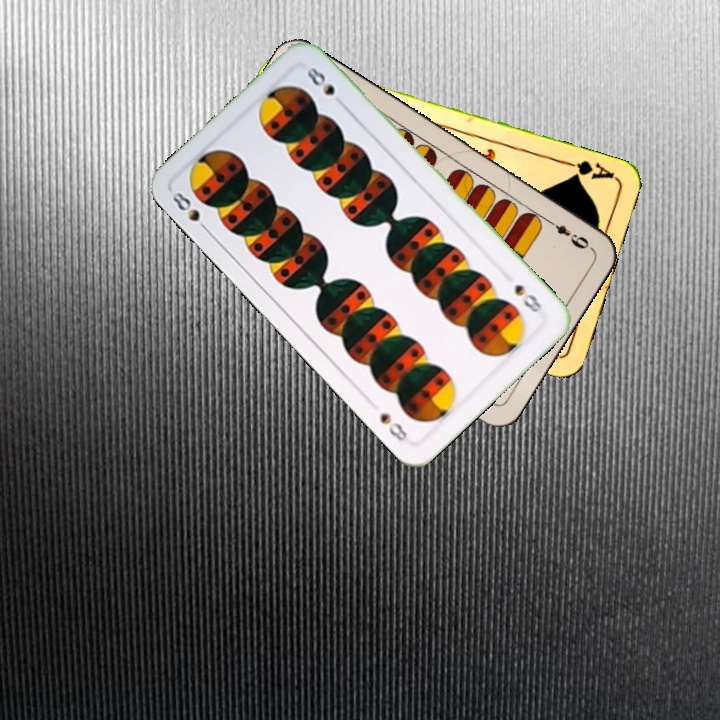E9: (541, 214, 594, 252)
GA: (559, 156, 618, 183)
S8: (165, 187, 213, 236), (510, 280, 546, 316)
